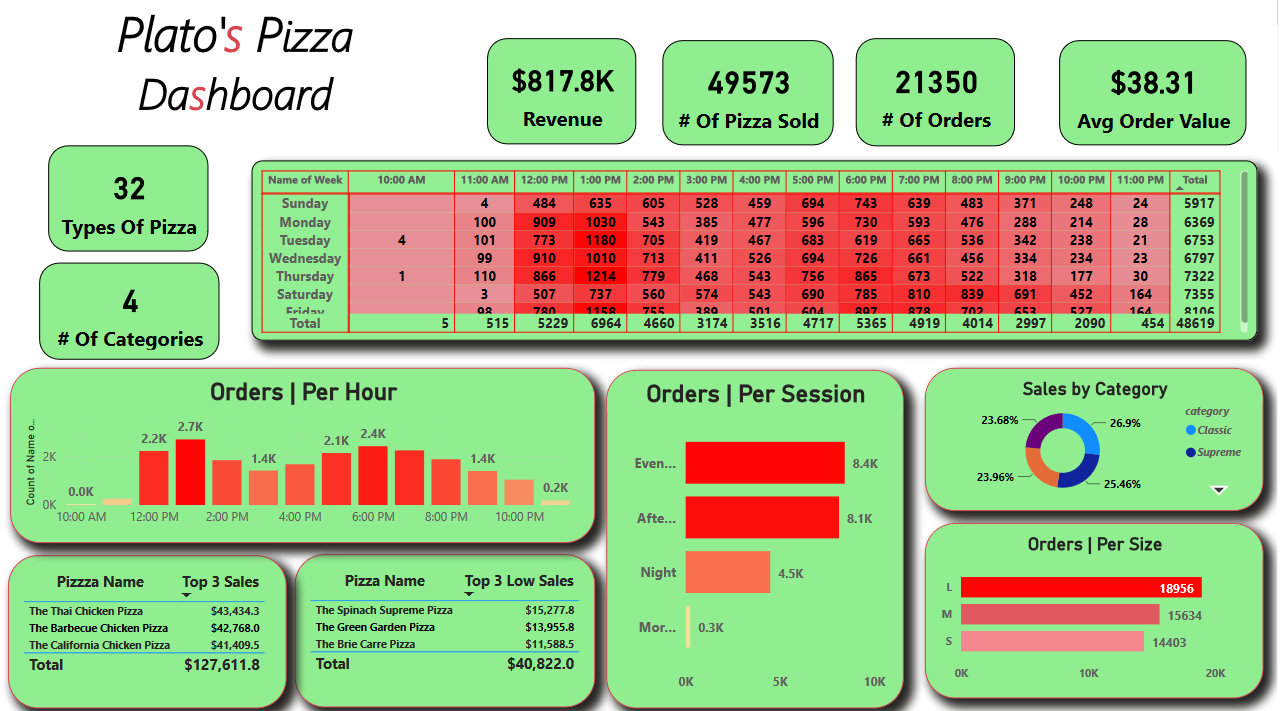

Layout of this report page (visuals, bound fields, positions):
{"tool":"powerbi","page":{"name":"Dashboard","canvas":[1280,720],"ordinal":0},"visuals":[{"type":"card","title":"Revenue","fields":{"Values":["Sum(order_details.Sales)"]},"box":[491.2,47.1,148.5,105.9],"z":0},{"type":"card","title":"Orders Per Year","fields":{"Values":["order_details.Number of Orders"]},"box":[859,47.2,158.6,107.6],"z":1000},{"type":"card","title":"Quantity","fields":{"Values":["Sum(order_details.quantity)"]},"box":[666.2,48.5,170.6,105.9],"z":2000},{"type":"donutChart","title":"Sales by Category","fields":{"Category":["pizza_types.category"],"Y":["Sum(order_details.Sales)"]},"box":[927.9,376.5,338.2,142.6],"z":3000},{"type":"pivotTable","fields":{"Columns":["orders.Custom_time"],"Rows":["orders.Name of Week"],"Values":["CountNonNull(order_details.order_id)"]},"box":[255.9,169.1,1004.4,179.4],"z":4000},{"type":"card","title":"Orders Per Year","fields":{"Values":["Count(pizza_types.category)"]},"box":[14.3,263.8,179.6,97],"z":5000},{"type":"card","title":"Orders Per Year","fields":{"Values":["Count(pizza_types.pizza_type_id)"]},"box":[18.2,168.8,171.4,89.6],"z":6000},{"type":"card","title":"Orders Per Year","fields":{"Values":["order_details.Avg Price"]},"box":[1061.8,48.5,186.8,105.9],"z":7000},{"type":"tableEx","fields":{"Values":["pizza_types.name","Sum(order_details.Sales)"]},"box":[298.5,556.6,300,152.9],"z":8000},{"type":"tableEx","fields":{"Values":["pizza_types.name","Sum(order_details.Sales)"]},"box":[14.3,554.5,277.9,151.9],"z":9000},{"type":"clusteredColumnChart","title":"Orders | Per Hour","fields":{"Category":["orders.Custom_time"],"Y":["CountNonNull(orders.Name of Week)"]},"box":[13,366.2,584.4,175.3],"z":10000},{"type":"clusteredBarChart","title":"Orders | Per Session ","fields":{"Category":["orders.DayTime"],"Y":["CountNonNull(orders.Name of Week)"]},"box":[610.3,372.7,297.1,338.2],"z":11000},{"type":"clusteredBarChart","title":"Orders | Per Size","fields":{"Category":["pizzas.size"],"Y":["Sum(order_details.quantity)"]},"box":[927.9,530.9,338.2,175],"z":12000},{"type":"textbox","box":[22.1,2.9,447.1,150],"z":13000},{"type":"shape","box":[0,0,1279.5,12.7],"z":14000},{"type":"shape","box":[0,0,13,719.5],"z":15000},{"type":"shape","box":[1267.5,0,13,719.5],"z":16000},{"type":"shape","box":[1267,0,13,719.5],"z":17000},{"type":"shape","box":[1267,0.5,13,719.5],"z":18000},{"type":"shape","box":[1267,0.5,13,719.5],"z":19000},{"type":"shape","box":[0,706.5,1279.2,13],"z":20000}]}

Visuals, with their boxes in screenshot pixels (x1, y1, x2, y2), scaled from the page's 1280x720 canvas onto the 1284x711 screenshot:
"Revenue" card: x1=493, y1=47, x2=642, y2=151
"Orders Per Year" card: x1=862, y1=47, x2=1021, y2=153
"Quantity" card: x1=668, y1=48, x2=839, y2=152
"Sales by Category" donutChart: x1=931, y1=372, x2=1270, y2=513
pivotTable - orders.Custom_time x orders.Name of Week: x1=257, y1=167, x2=1264, y2=344
"Orders Per Year" card: x1=14, y1=261, x2=195, y2=356
"Orders Per Year" card: x1=18, y1=167, x2=190, y2=255
"Orders Per Year" card: x1=1065, y1=48, x2=1253, y2=152
tableEx - pizza_types.name x Sum(order_details.Sales): x1=299, y1=550, x2=600, y2=701
tableEx - pizza_types.name x Sum(order_details.Sales): x1=14, y1=548, x2=293, y2=698
"Orders | Per Hour" clusteredColumnChart: x1=13, y1=362, x2=599, y2=535
"Orders | Per Session " clusteredBarChart: x1=612, y1=368, x2=910, y2=702
"Orders | Per Size" clusteredBarChart: x1=931, y1=524, x2=1270, y2=697
textbox: x1=22, y1=3, x2=471, y2=151
shape: x1=0, y1=0, x2=1283, y2=13
shape: x1=0, y1=0, x2=13, y2=710
shape: x1=1271, y1=0, x2=1283, y2=710
shape: x1=1271, y1=0, x2=1283, y2=710
shape: x1=1271, y1=0, x2=1283, y2=710
shape: x1=1271, y1=0, x2=1283, y2=710
shape: x1=0, y1=698, x2=1283, y2=710
